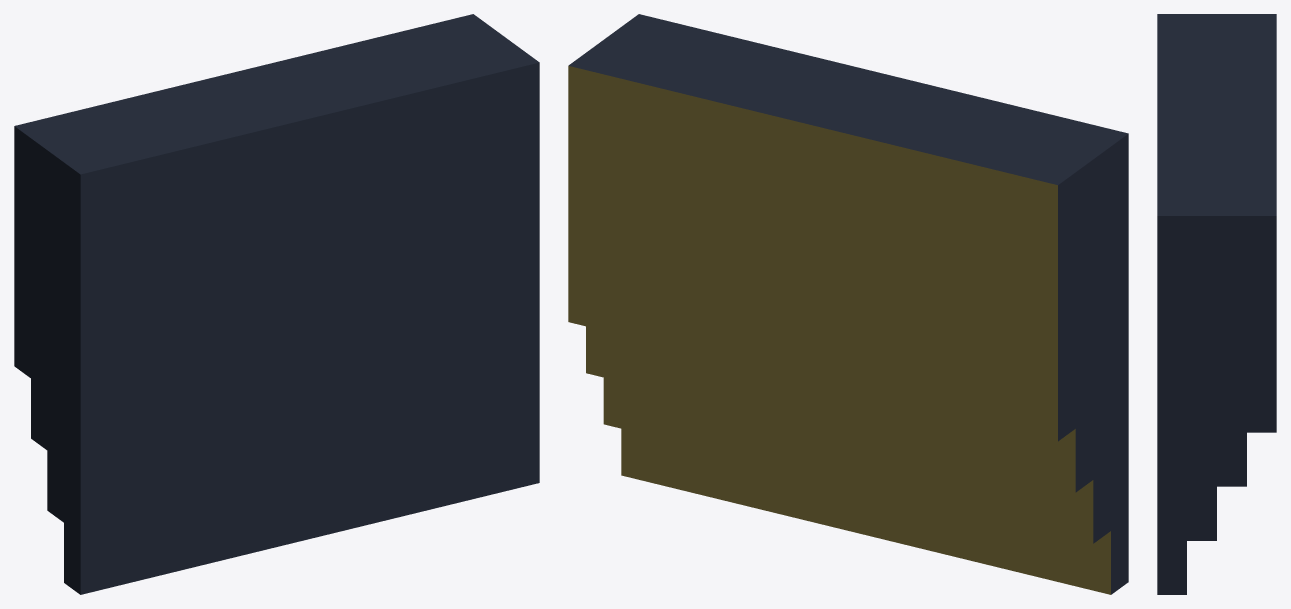
File: Stairs.fbx
3 renders of one model, left to right at view 1: azimuth 30°, elevation 25°; view 2: azimuth 150°, elevation 25°; view 3: azimuth 270°, elevation 25°, orthographic. The views are drawn at different scales.
Visible parts, largest first — view 1: Stairs; view 2: Stairs; view 3: Stairs.
Part boxes in pixels (x1=…): Stairs: x1=14, y1=14, x2=539, y2=594; Stairs: x1=568, y1=14, x2=1128, y2=594; Stairs: x1=1157, y1=14, x2=1276, y2=594.
Size of the model in its own units: 800 by 700 by 200.
